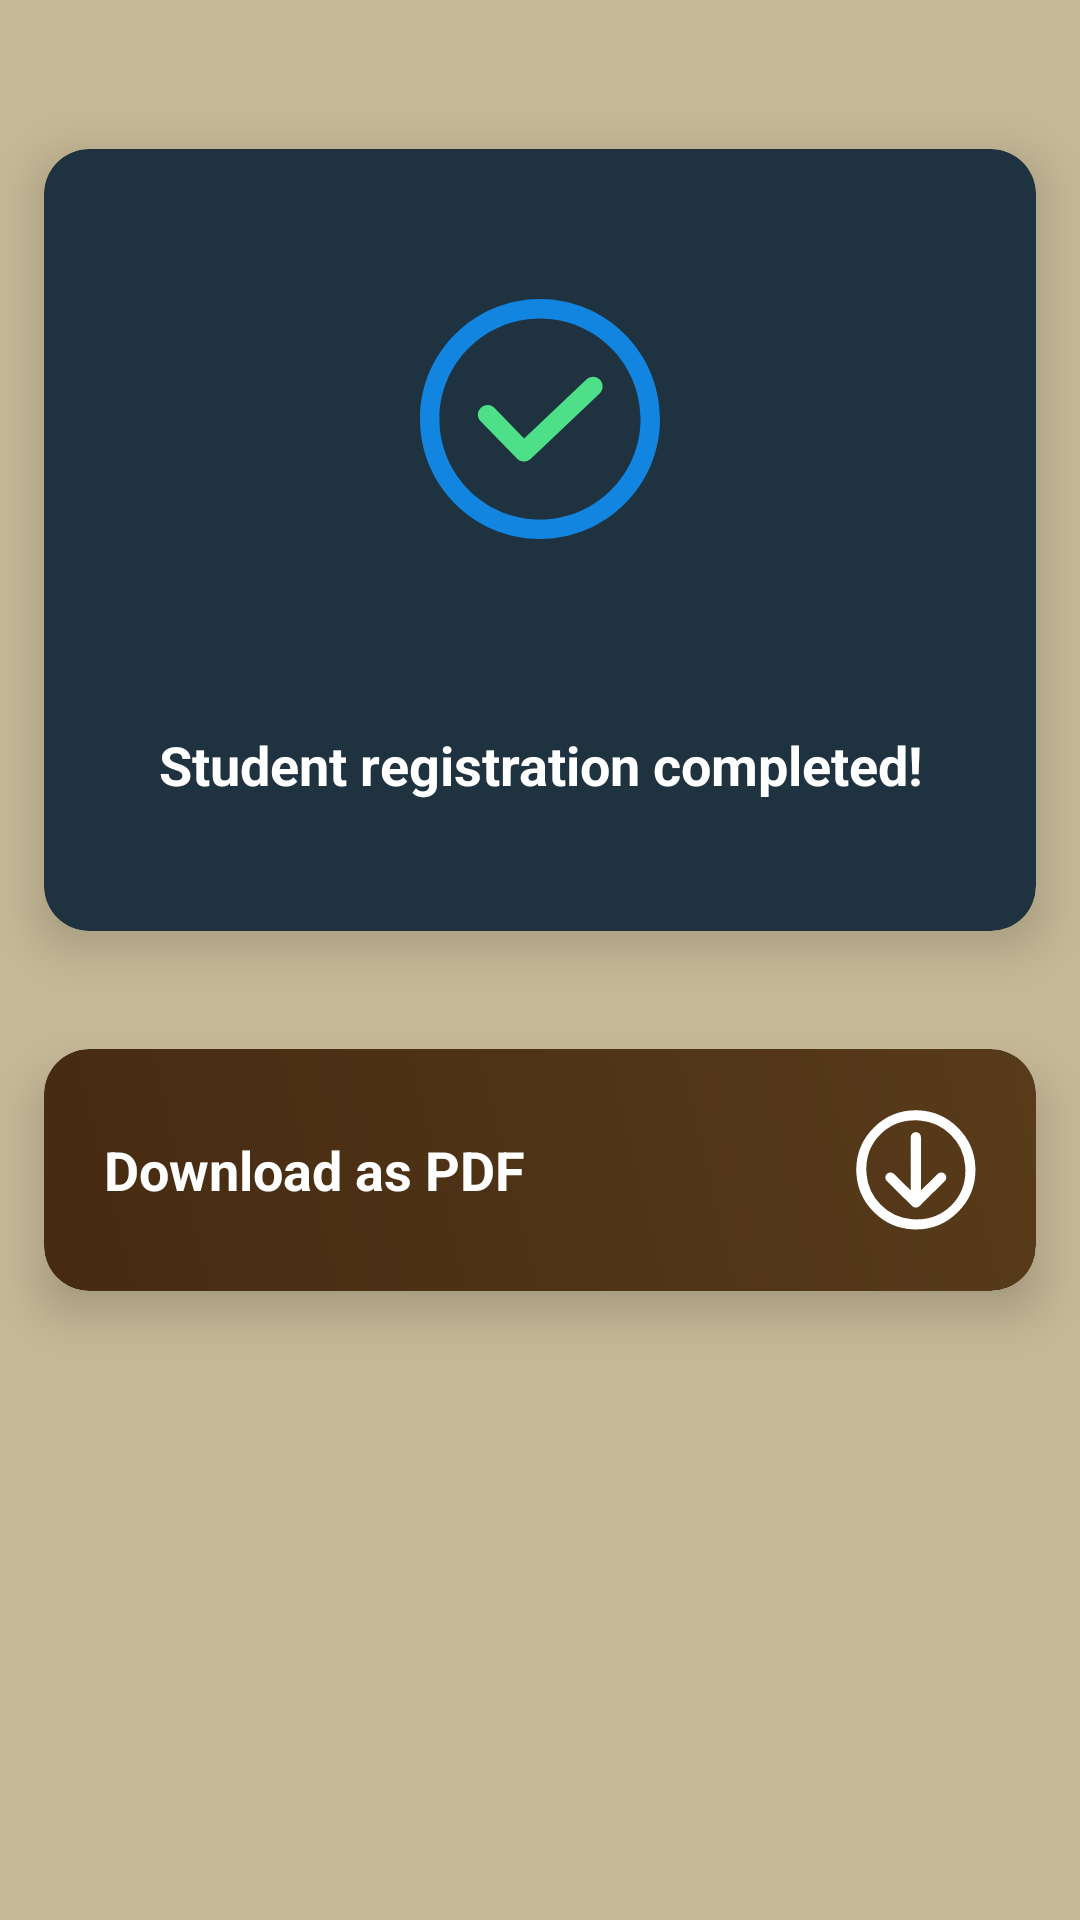

Where to tap for icons on this 1080w x 1920h app screen, as (x,y):
download: (916,1170)
success: (540,419)
